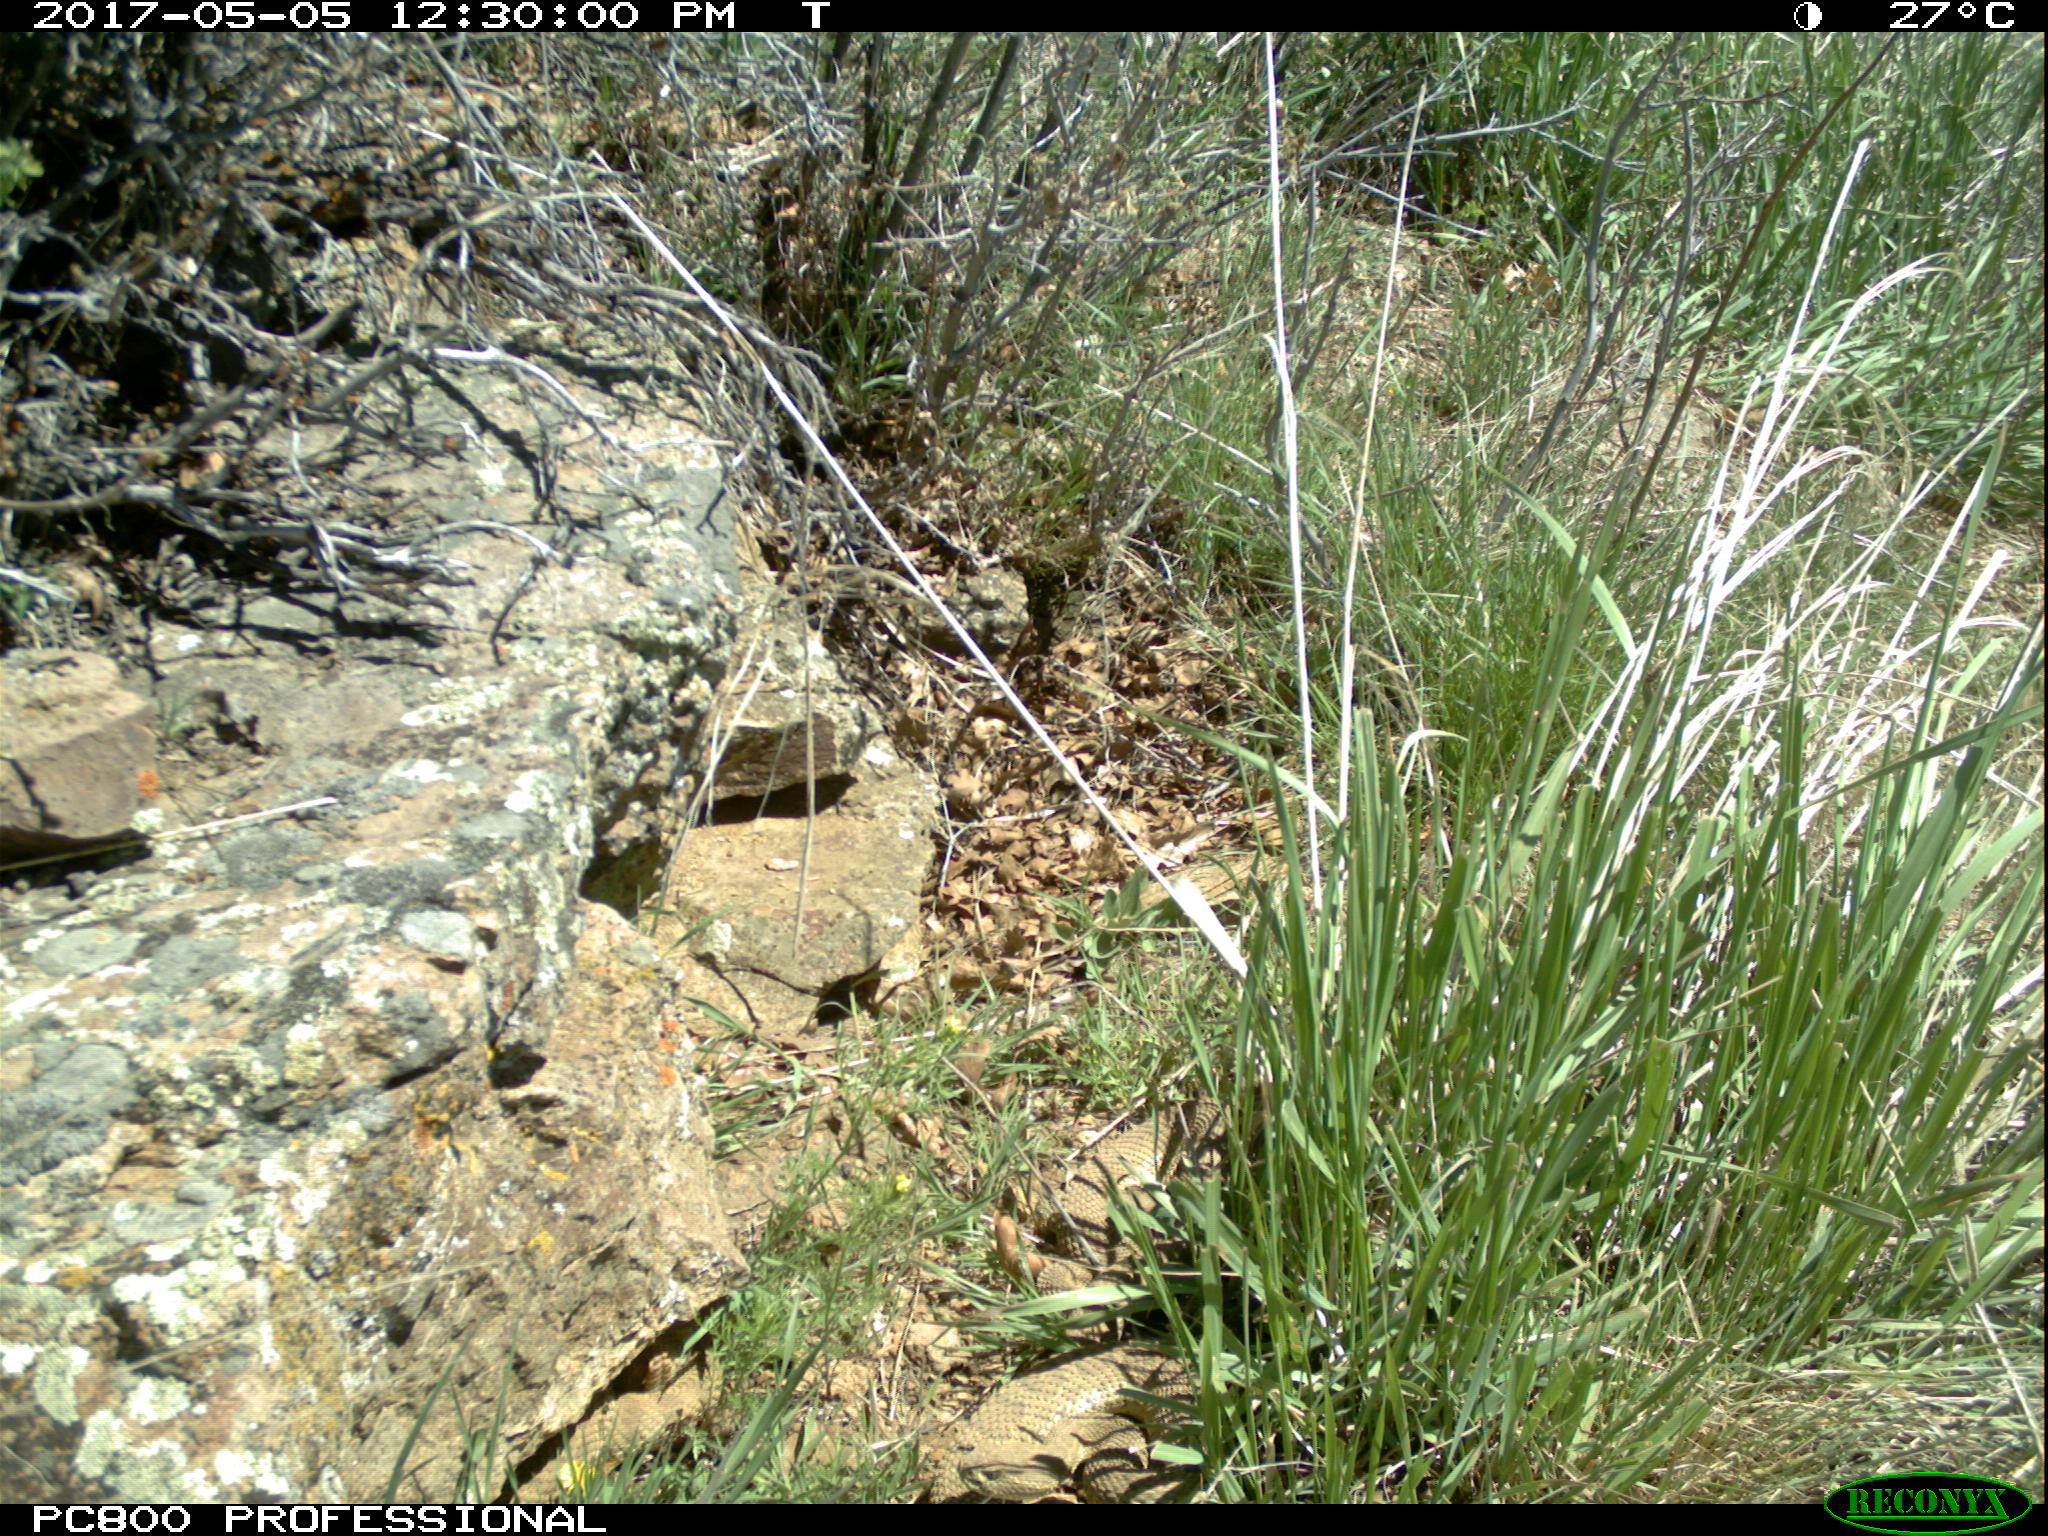snake: (913, 1350, 1205, 1505), (1053, 1100, 1243, 1229), (537, 1350, 726, 1471)
